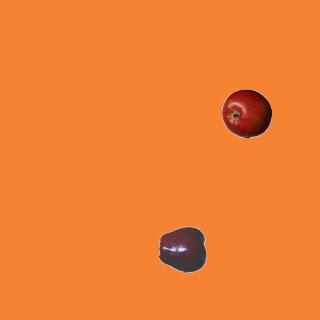Apple Braeburn: (221, 88, 271, 138)
Apple Red Delicious: (158, 224, 208, 274)
